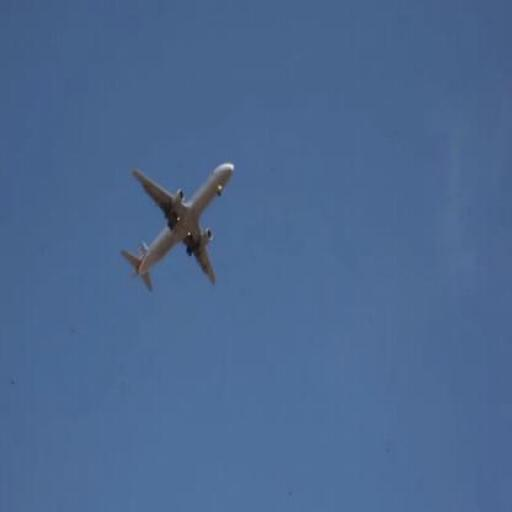aircraft: (122, 157, 237, 293)
